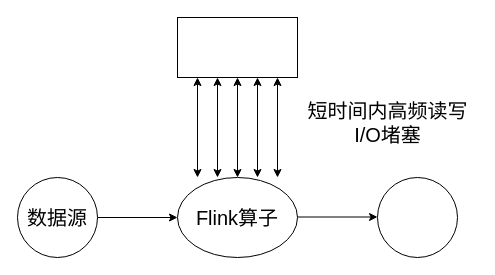
Some shapes in this 495 by 275 pixel diagram are drawn without their labels. The shapes that lost their labels are listed below. From the top down, each one's box as (x1, y1, x2, y2) in pixels, then its label:
(176, 16, 298, 78): MySQL
(376, 176, 458, 258): Sink
